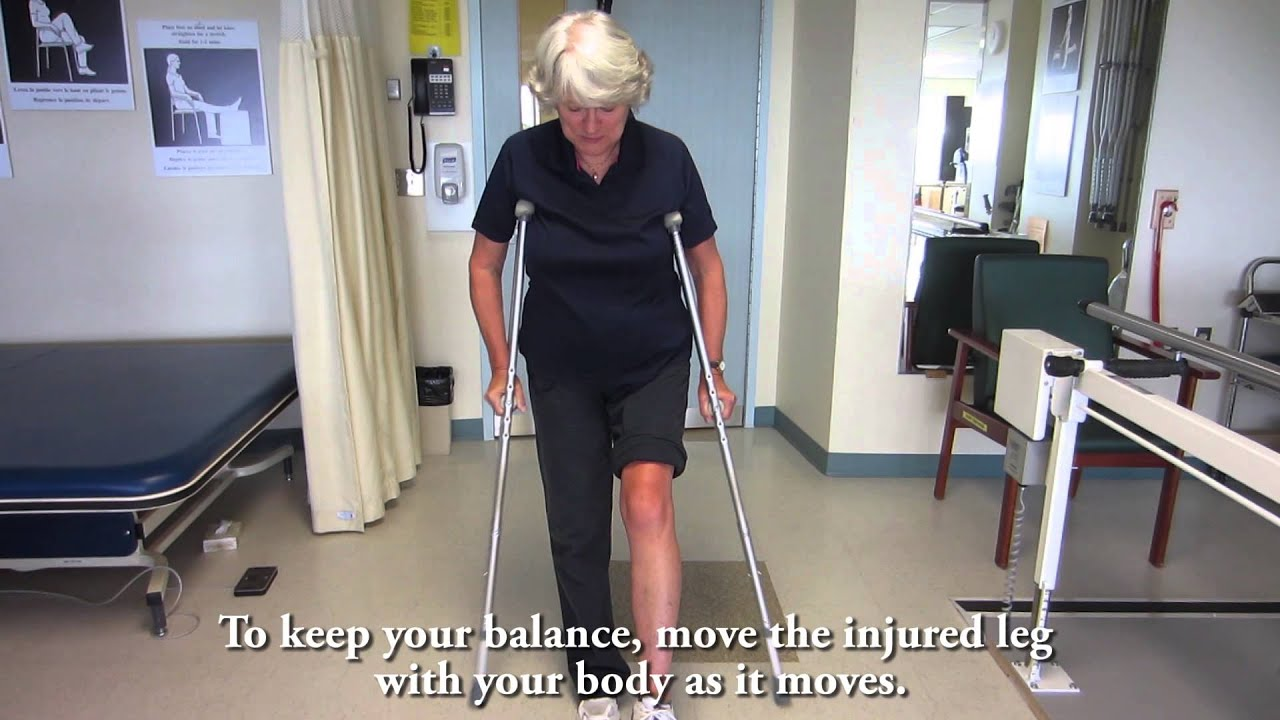crutches: (467, 8, 790, 720)
